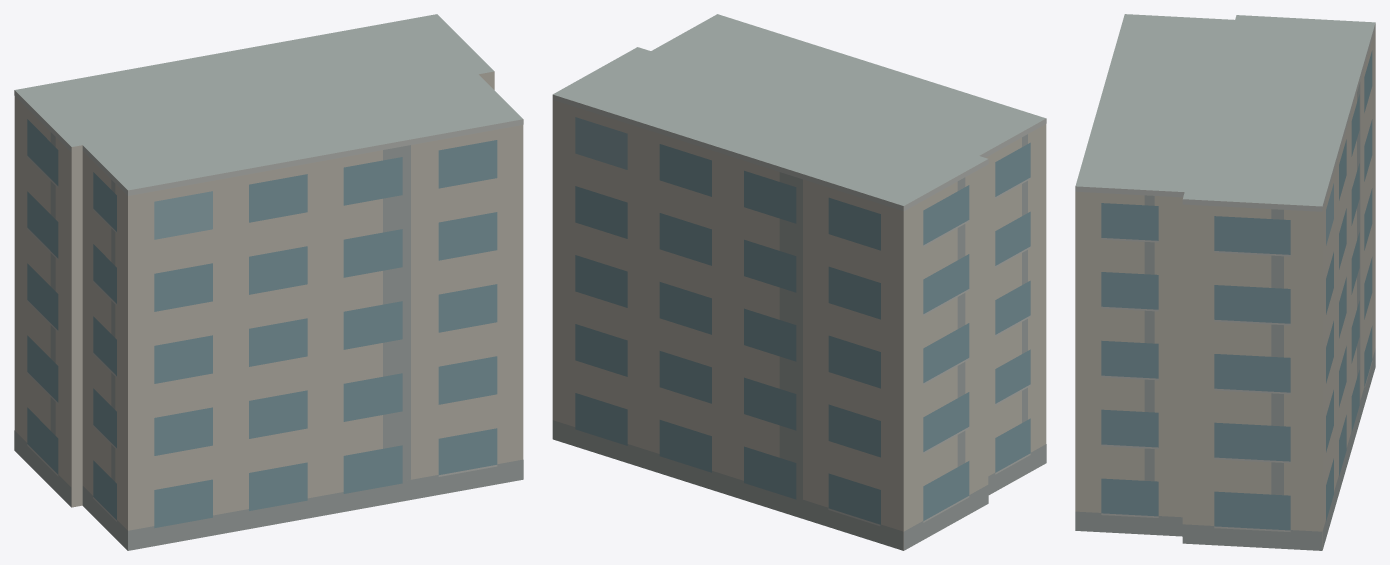
The model's file is survey-upis-32873444.glb.
3 renders of one model, left to right at view 1: azimuth 30°, elevation 25°; view 2: azimuth 150°, elevation 25°; view 3: azimuth 270°, elevation 25°, orthographic. The views are drawn at different scales.
Parts seen in each view (by area): view 1: survey-upis-32873444.tmp; view 2: survey-upis-32873444.tmp; view 3: survey-upis-32873444.tmp.
Part boxes in pixels (x1,y1,x2,y2): survey-upis-32873444.tmp: (14,14,523,550); survey-upis-32873444.tmp: (552,14,1046,550); survey-upis-32873444.tmp: (1075,14,1375,550).
Size of the model in its own units: 18.89 by 15.75 by 12.46.
